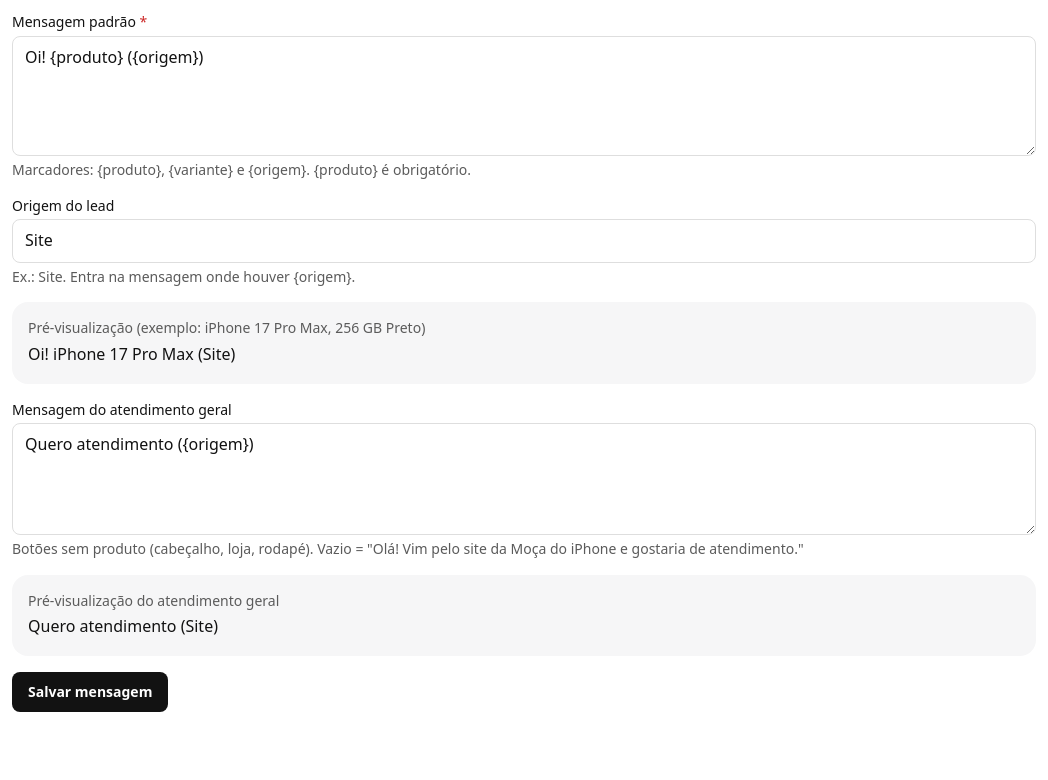
WhatsappSettingsForm › a pré-visualização acompanha a edição da mensagem e da origem
Expected: the text "Oi! iPhone 17 Pro Max (Site)" is shown, [28,343,235,365]
Replace the text in the field labelled "Origem do lead" with "Instagram" at coordinates (524, 241), box [12,219,1036,263]
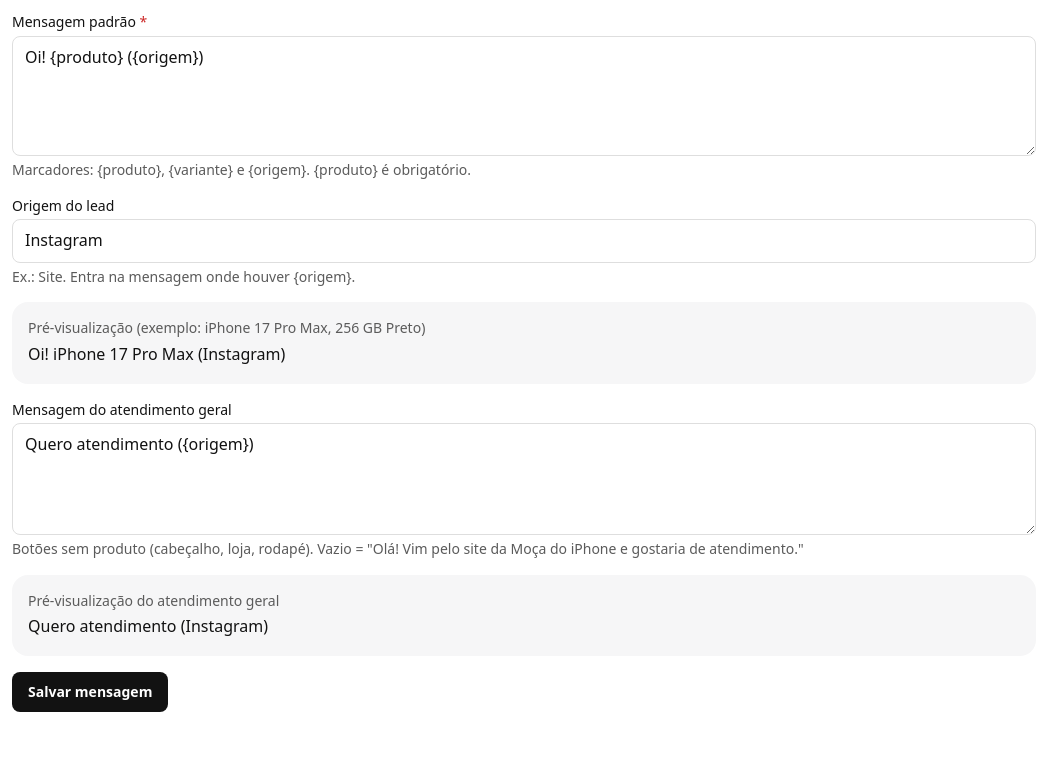
Now the text "Oi! iPhone 17 Pro Max (Instagram)" is shown, box [28,343,285,365]
Now the text "Quero atendimento (Instagram)" is shown, box [28,615,268,637]
